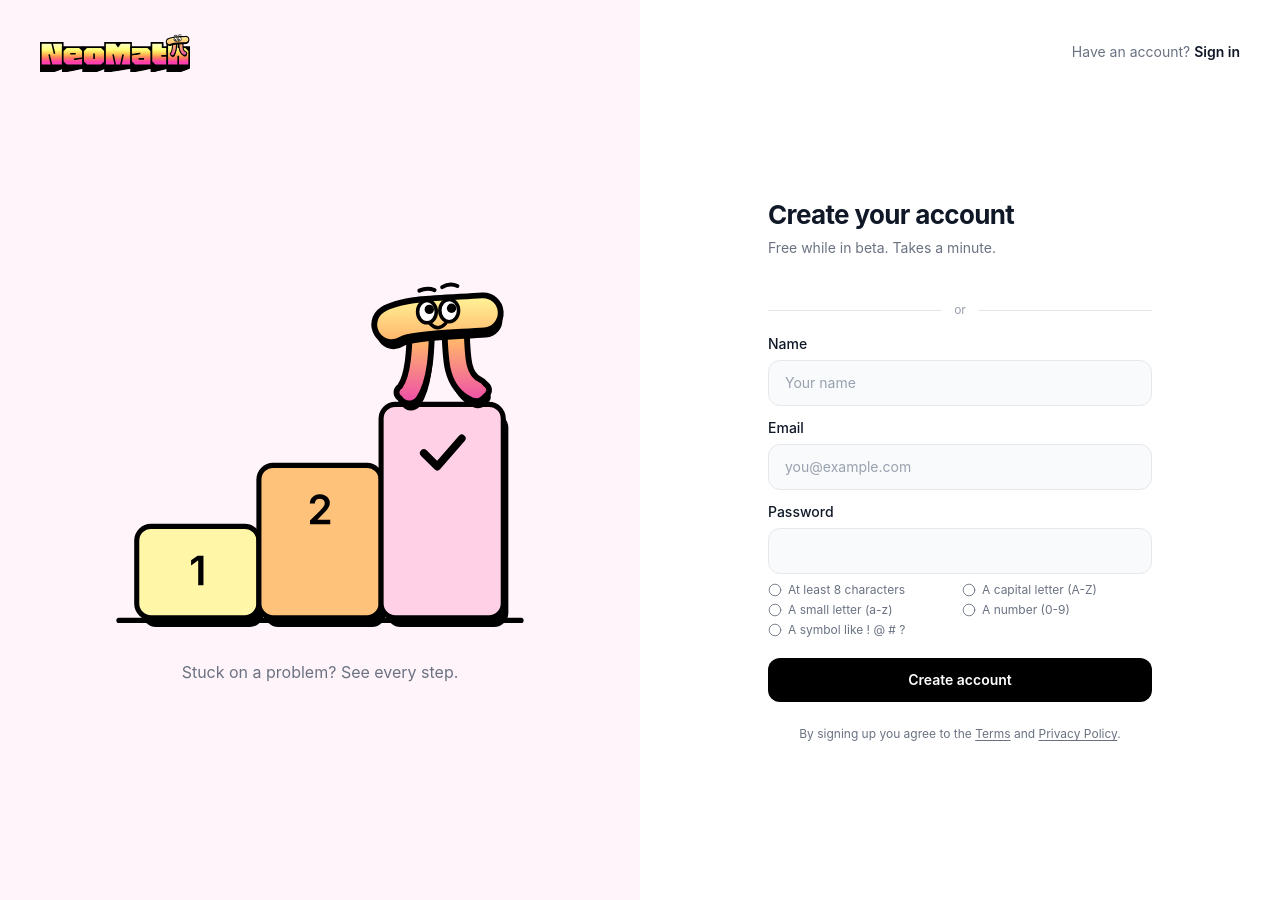
Test: sign-up robot check › asks the student to finish the check before sending
Type "Asha" into the field labelled "Name".
click(960, 383); type("Asha")  # box [768,360,1152,406]
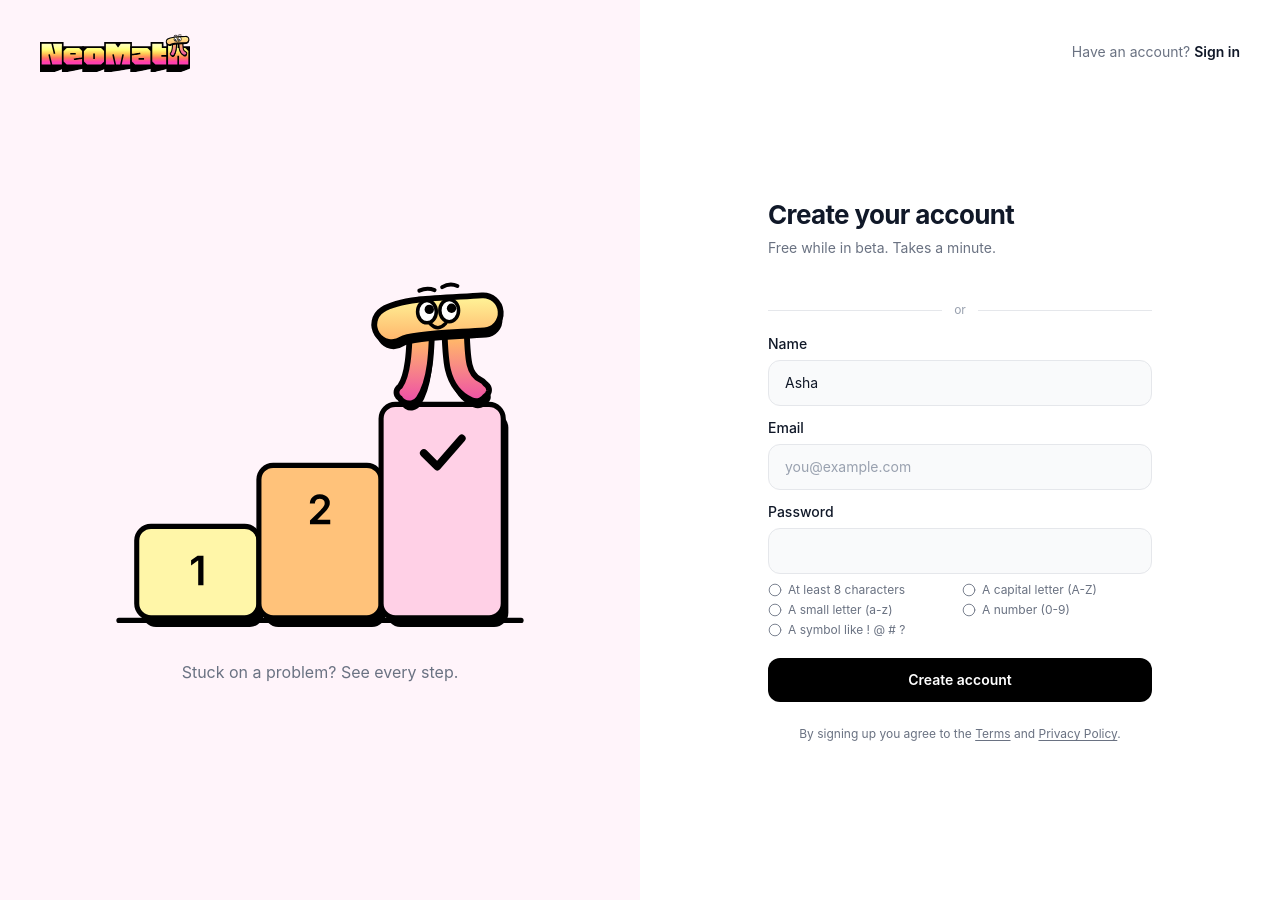
Type "asha@example.com" into the field labelled "Email".
click(960, 467); type("asha@example.com")  # box [768,444,1152,490]
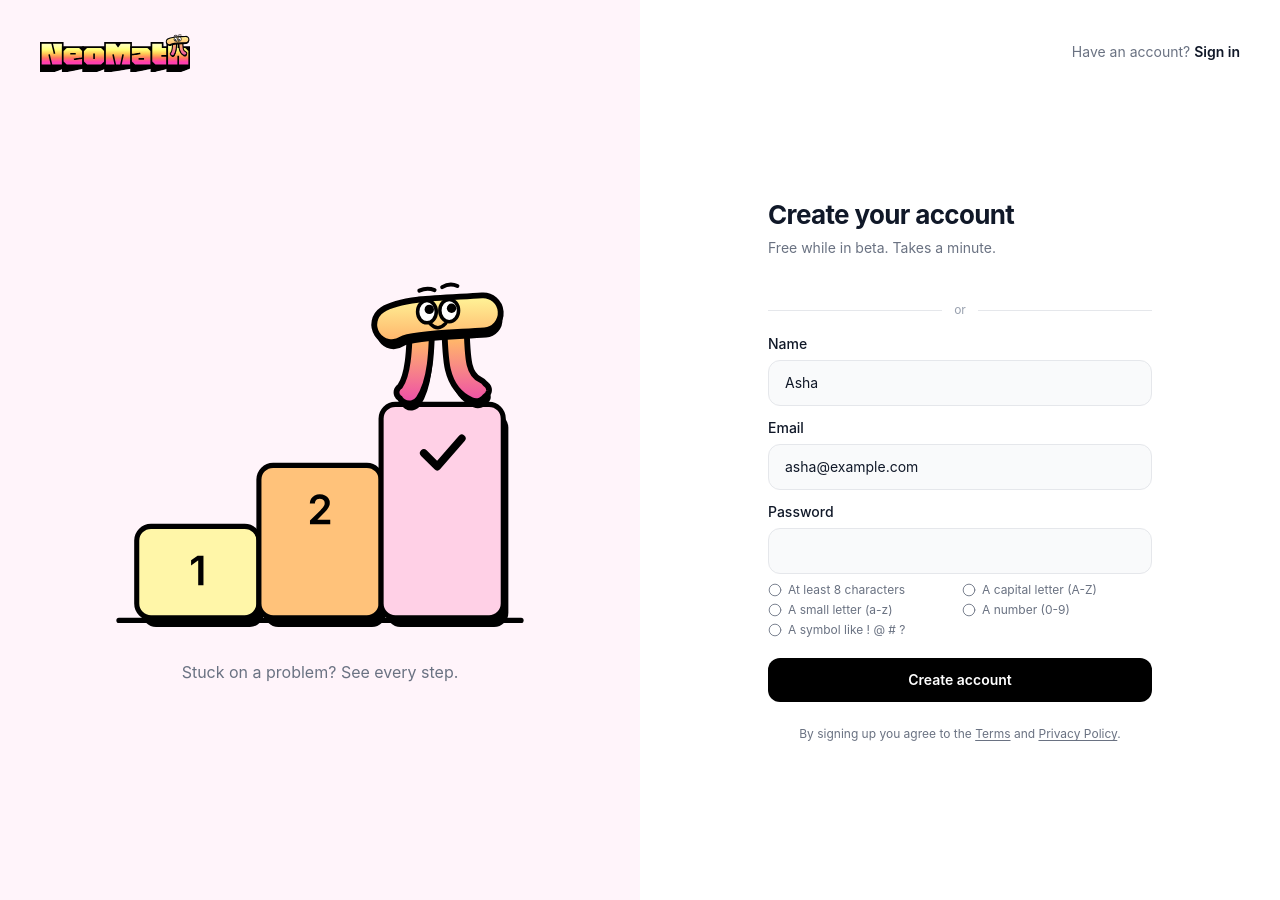
Type "Long-password-1!" into the password field labelled "Password".
click(960, 551); type("Long-password-1!")  # box [768,528,1152,574]
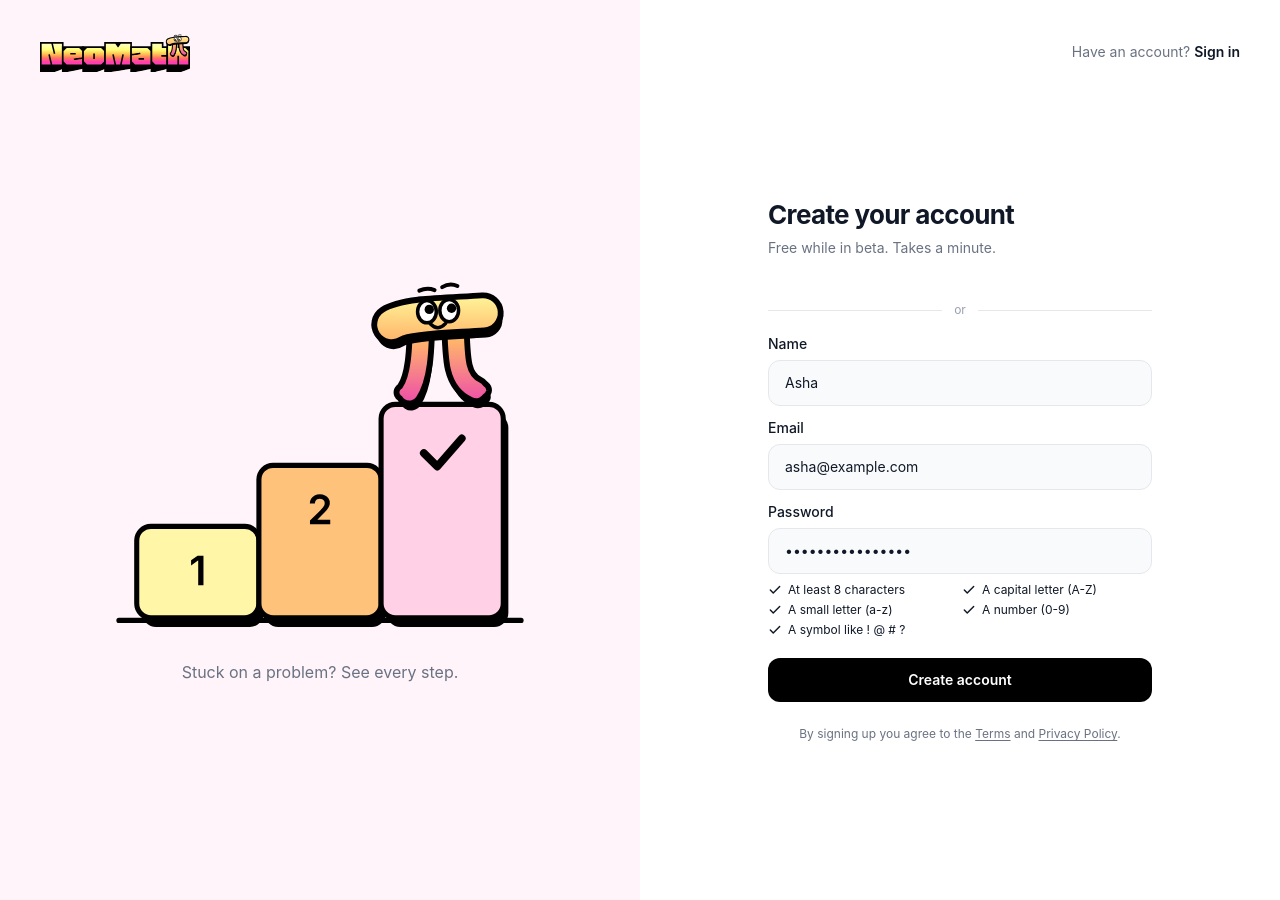
Click the button "Create account".
click(960, 680)  # box [768,658,1152,702]
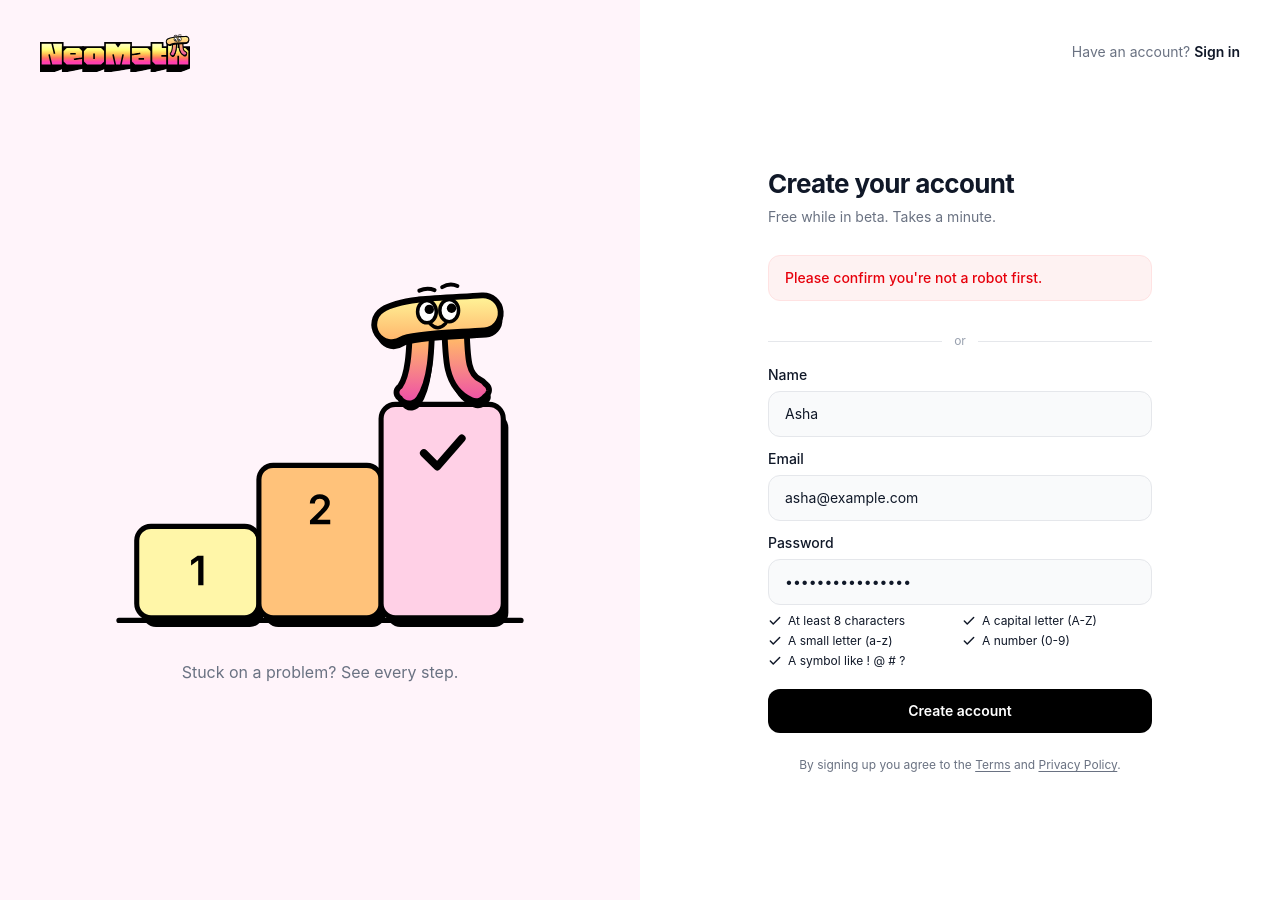
Now the message reads "Please confirm you're not a robot first.", box [785,269,1042,286]
